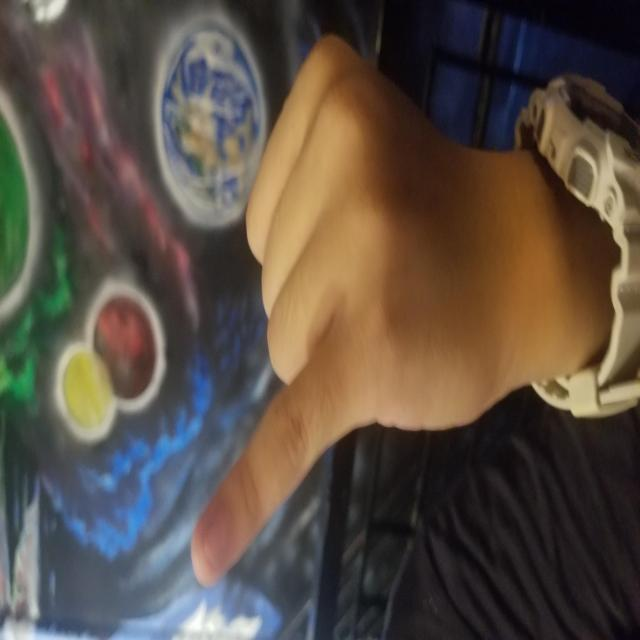J: (45, 188, 610, 498)
